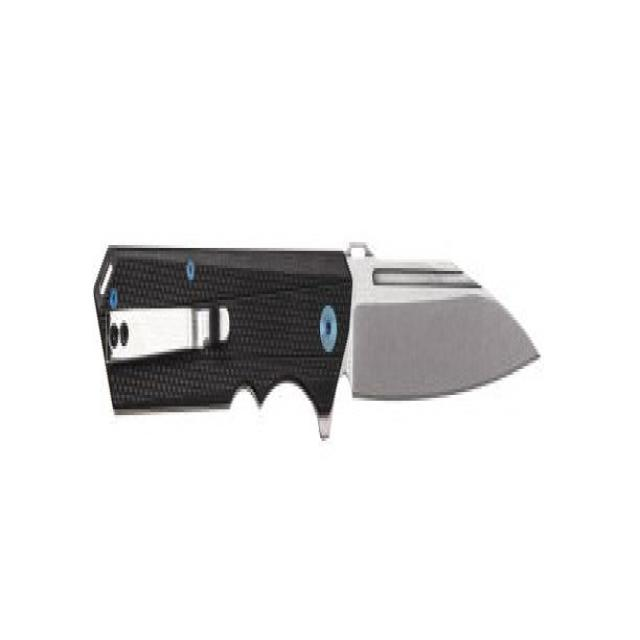knife: (93, 227, 545, 451)
